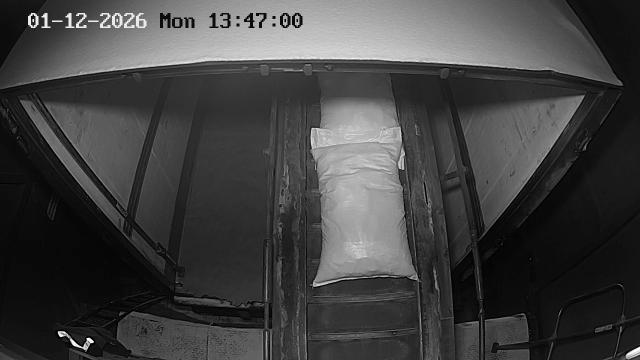bag: (310, 126, 420, 287), (318, 71, 404, 170)
